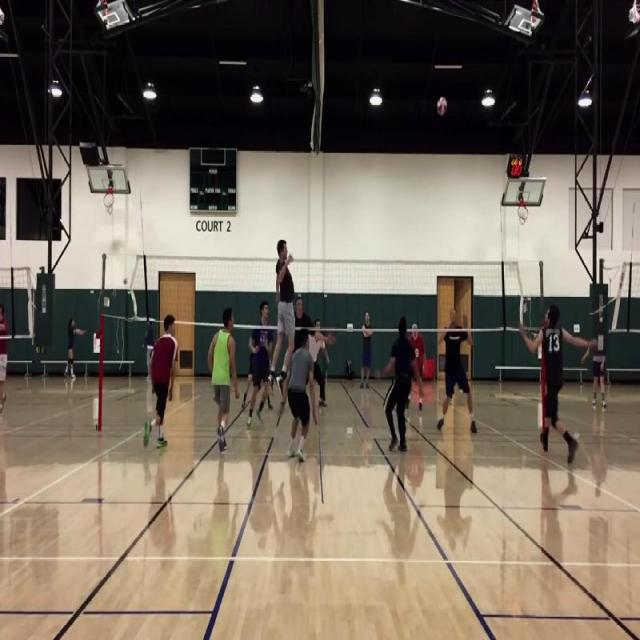volleyball: (436, 96, 447, 114)
